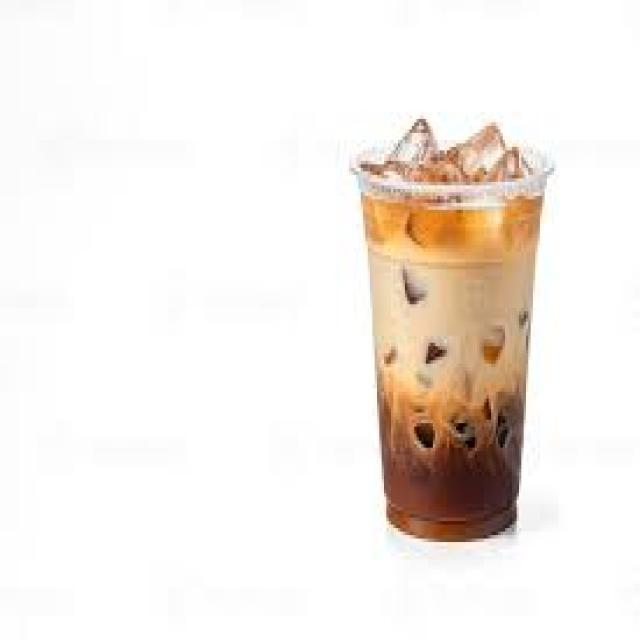cup: (355, 146, 550, 538)
